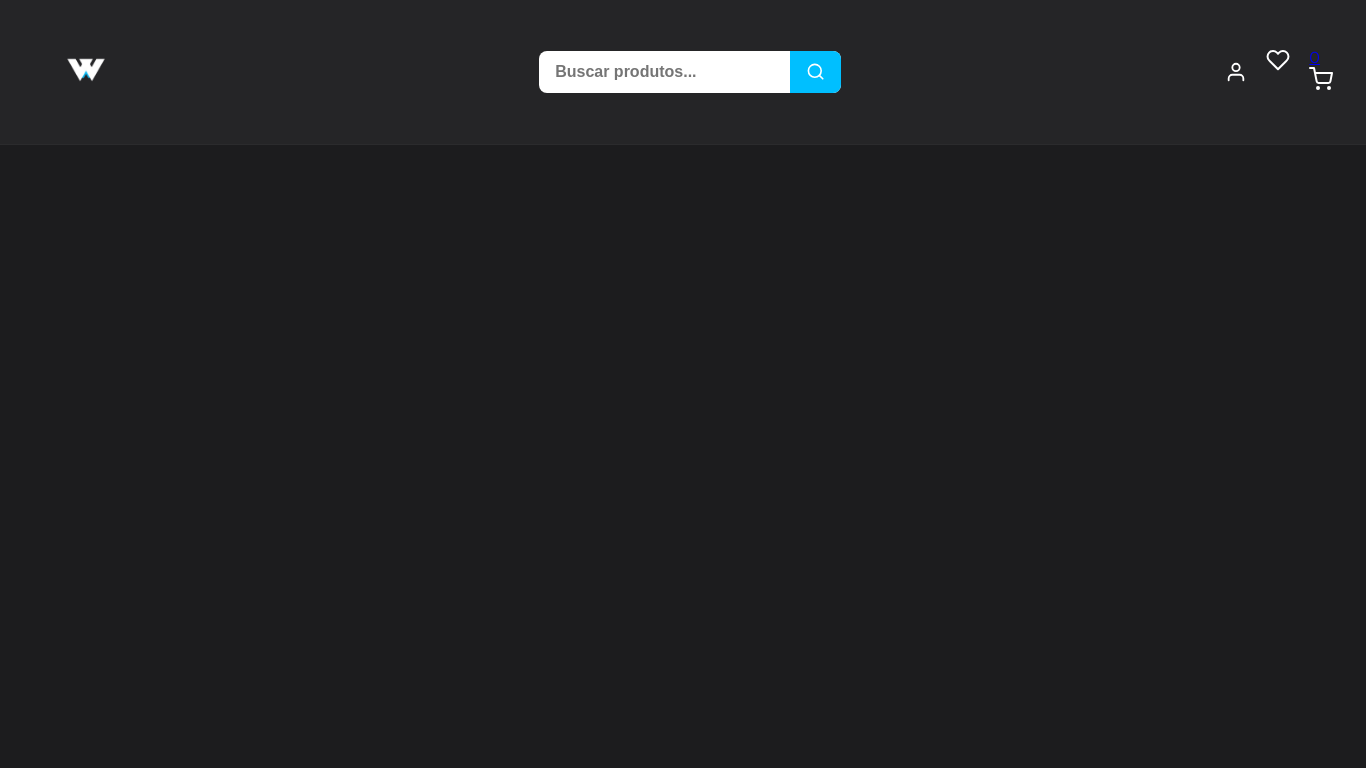
Test case: <headerTop/> › deve abrir e fechar overlay ao abrir o menu do usuário
What coordinates should you click on to do the following:
click the icon with test id "user"
I would click on:
 (1236, 72)
Its box is [1225, 61, 1247, 83].
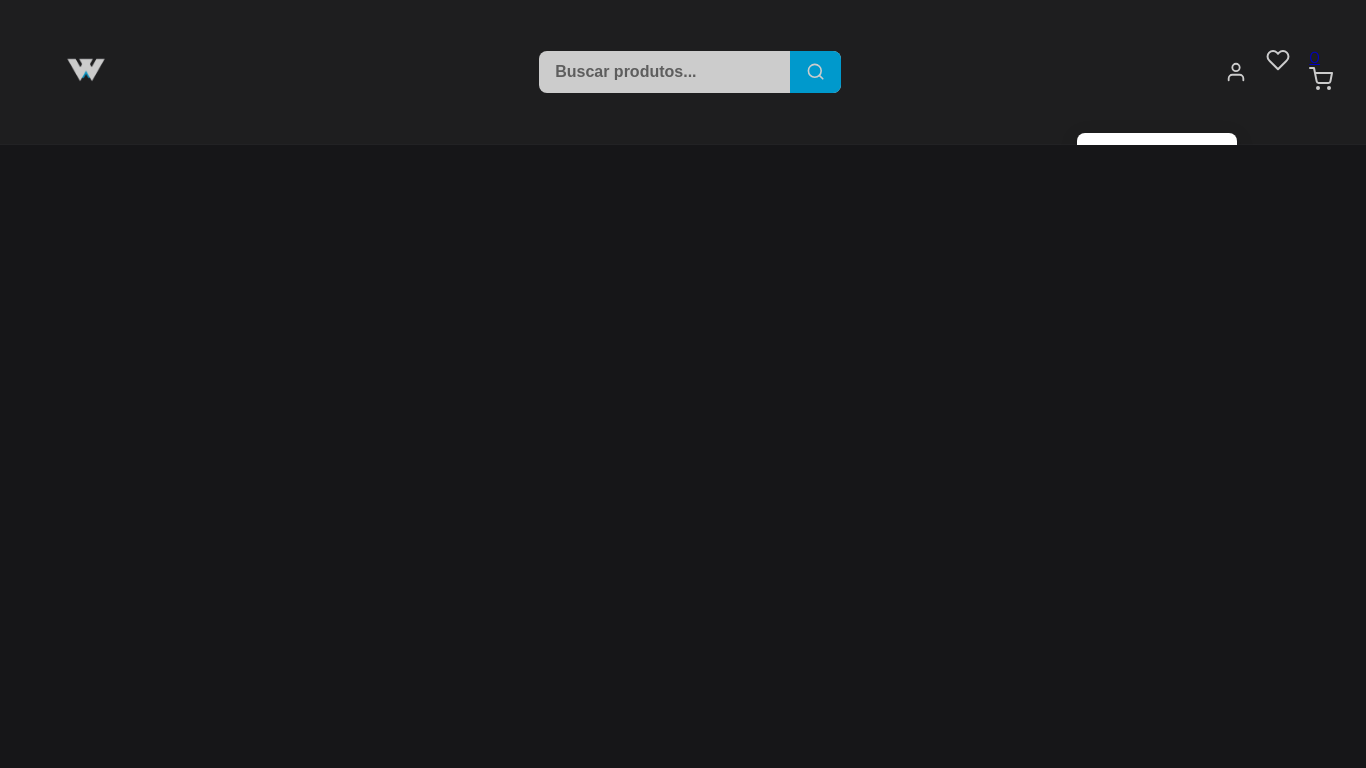
Check: the element with test id "overlay" is shown
What coordinates should you click on to do the following:
click the element with test id "overlay"
I would click on:
 (683, 384)
Its box is [0, 0, 1365, 767].
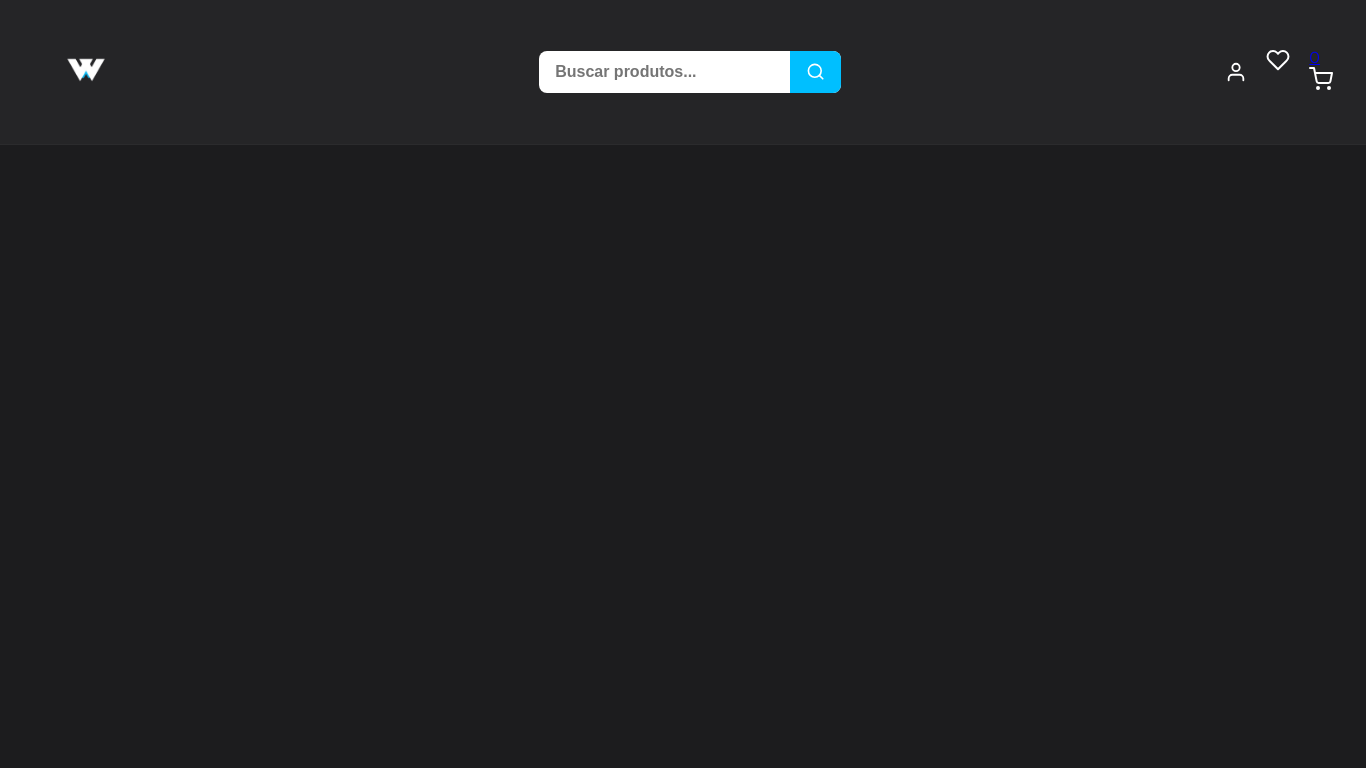
Check: the element with test id "overlay" is gone
